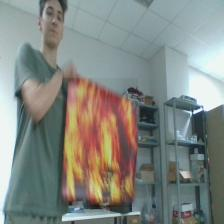fire-poster: (62, 78, 138, 207)
